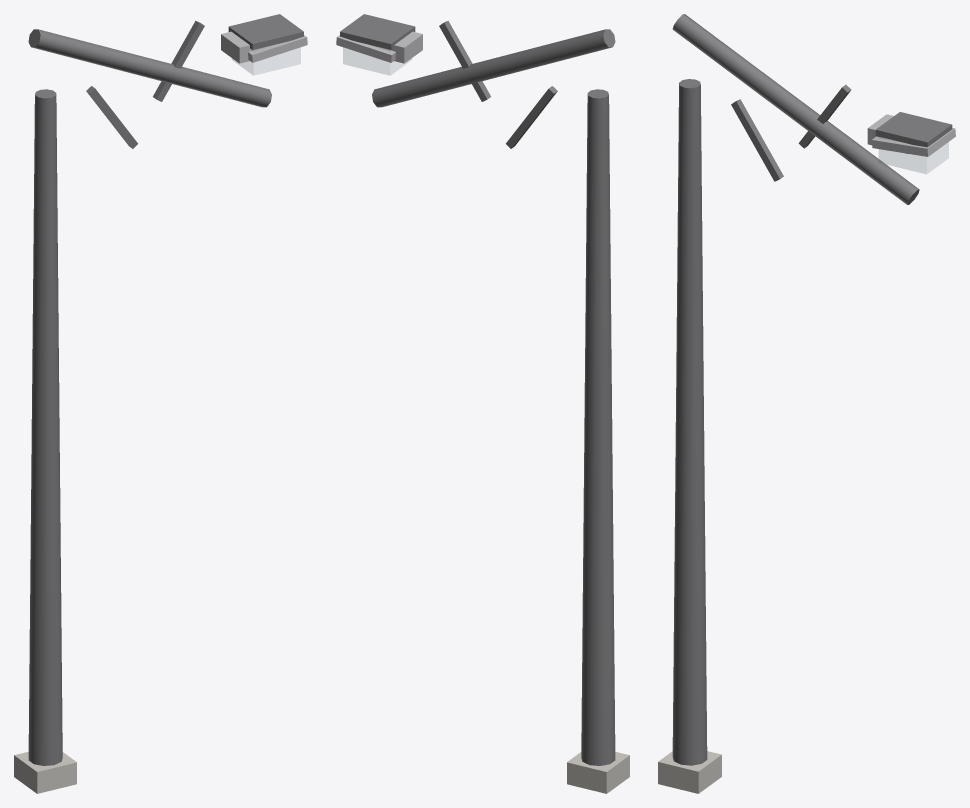
The model's file is street-light.glb.
The picture shows the model from 3 angles, left to right: view 1: azimuth 30°, elevation 25°; view 2: azimuth 150°, elevation 25°; view 3: azimuth 330°, elevation 25°; orthographic projection.
Visible parts, largest first — view 1: darkMetal, concrete, metal, glass; view 2: darkMetal, concrete, metal, glass; view 3: darkMetal, concrete, metal, glass.
Part boxes in pixels (box(x1,y1,x2,y2)): darkMetal: box(28, 14, 303, 765); concrete: box(14, 751, 76, 793); metal: box(221, 31, 307, 63); glass: box(232, 46, 300, 75); darkMetal: box(340, 14, 615, 765); concrete: box(567, 751, 629, 793); metal: box(336, 31, 422, 63); glass: box(343, 46, 411, 75); darkMetal: box(672, 14, 952, 765); concrete: box(658, 751, 721, 793); metal: box(867, 114, 955, 156); glass: box(879, 137, 948, 173).
Bounding box in the file's own units: 2.82 × 7.57 × 0.5.
